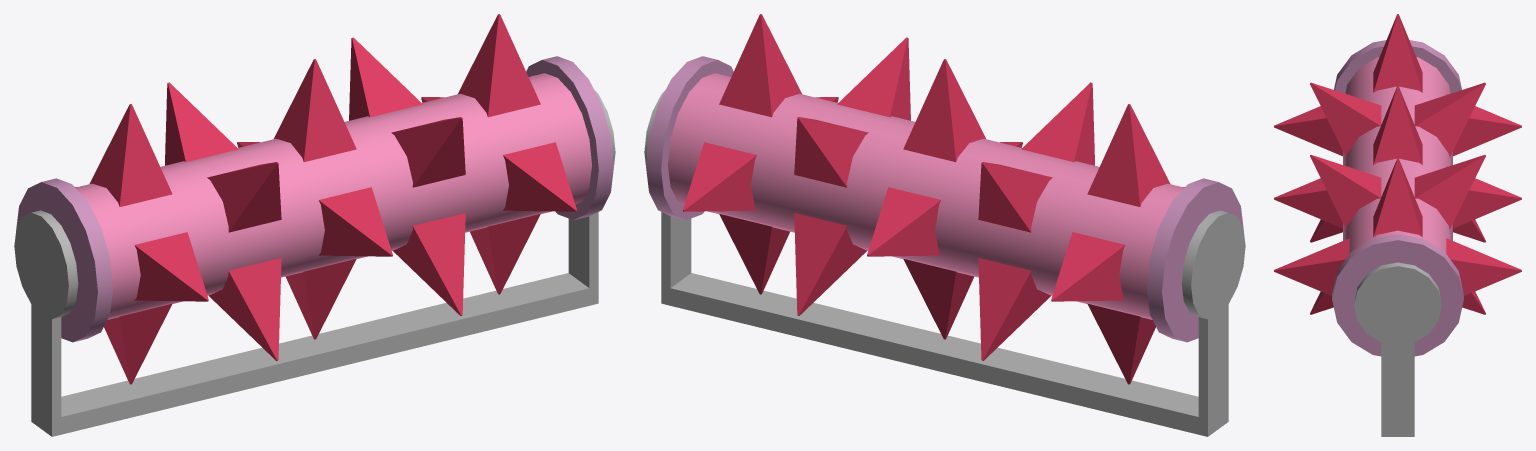
File: StableRoller.fbx
The picture shows the model from 3 angles, left to right: view 1: azimuth 30°, elevation 25°; view 2: azimuth 150°, elevation 25°; view 3: azimuth 270°, elevation 25°; orthographic projection. The views are drawn at different scales.
Parts seen in each view (by area): view 1: StableRollerPikes_GEO, StableRollerBase_GEO; view 2: StableRollerPikes_GEO, StableRollerBase_GEO; view 3: StableRollerPikes_GEO, StableRollerBase_GEO.
Boxes of the visible parts, box(x1,y1,x2,y2) form: StableRollerPikes_GEO: box(16, 14, 613, 384); StableRollerBase_GEO: box(14, 90, 615, 436); StableRollerPikes_GEO: box(646, 14, 1243, 384); StableRollerBase_GEO: box(644, 90, 1245, 436); StableRollerPikes_GEO: box(1274, 14, 1521, 356); StableRollerBase_GEO: box(1354, 262, 1441, 436).
Bounding box in the file's own units: 2 × 1.06 × 0.9783.
